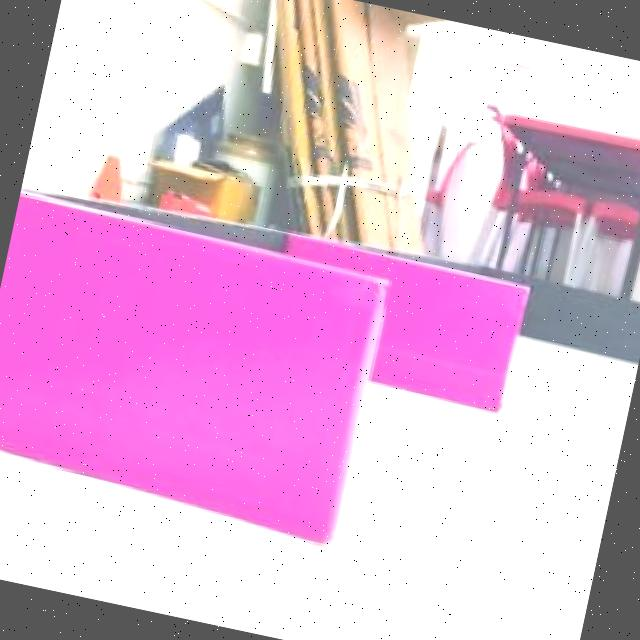xparking: (0, 192, 393, 532), (374, 253, 536, 412)
